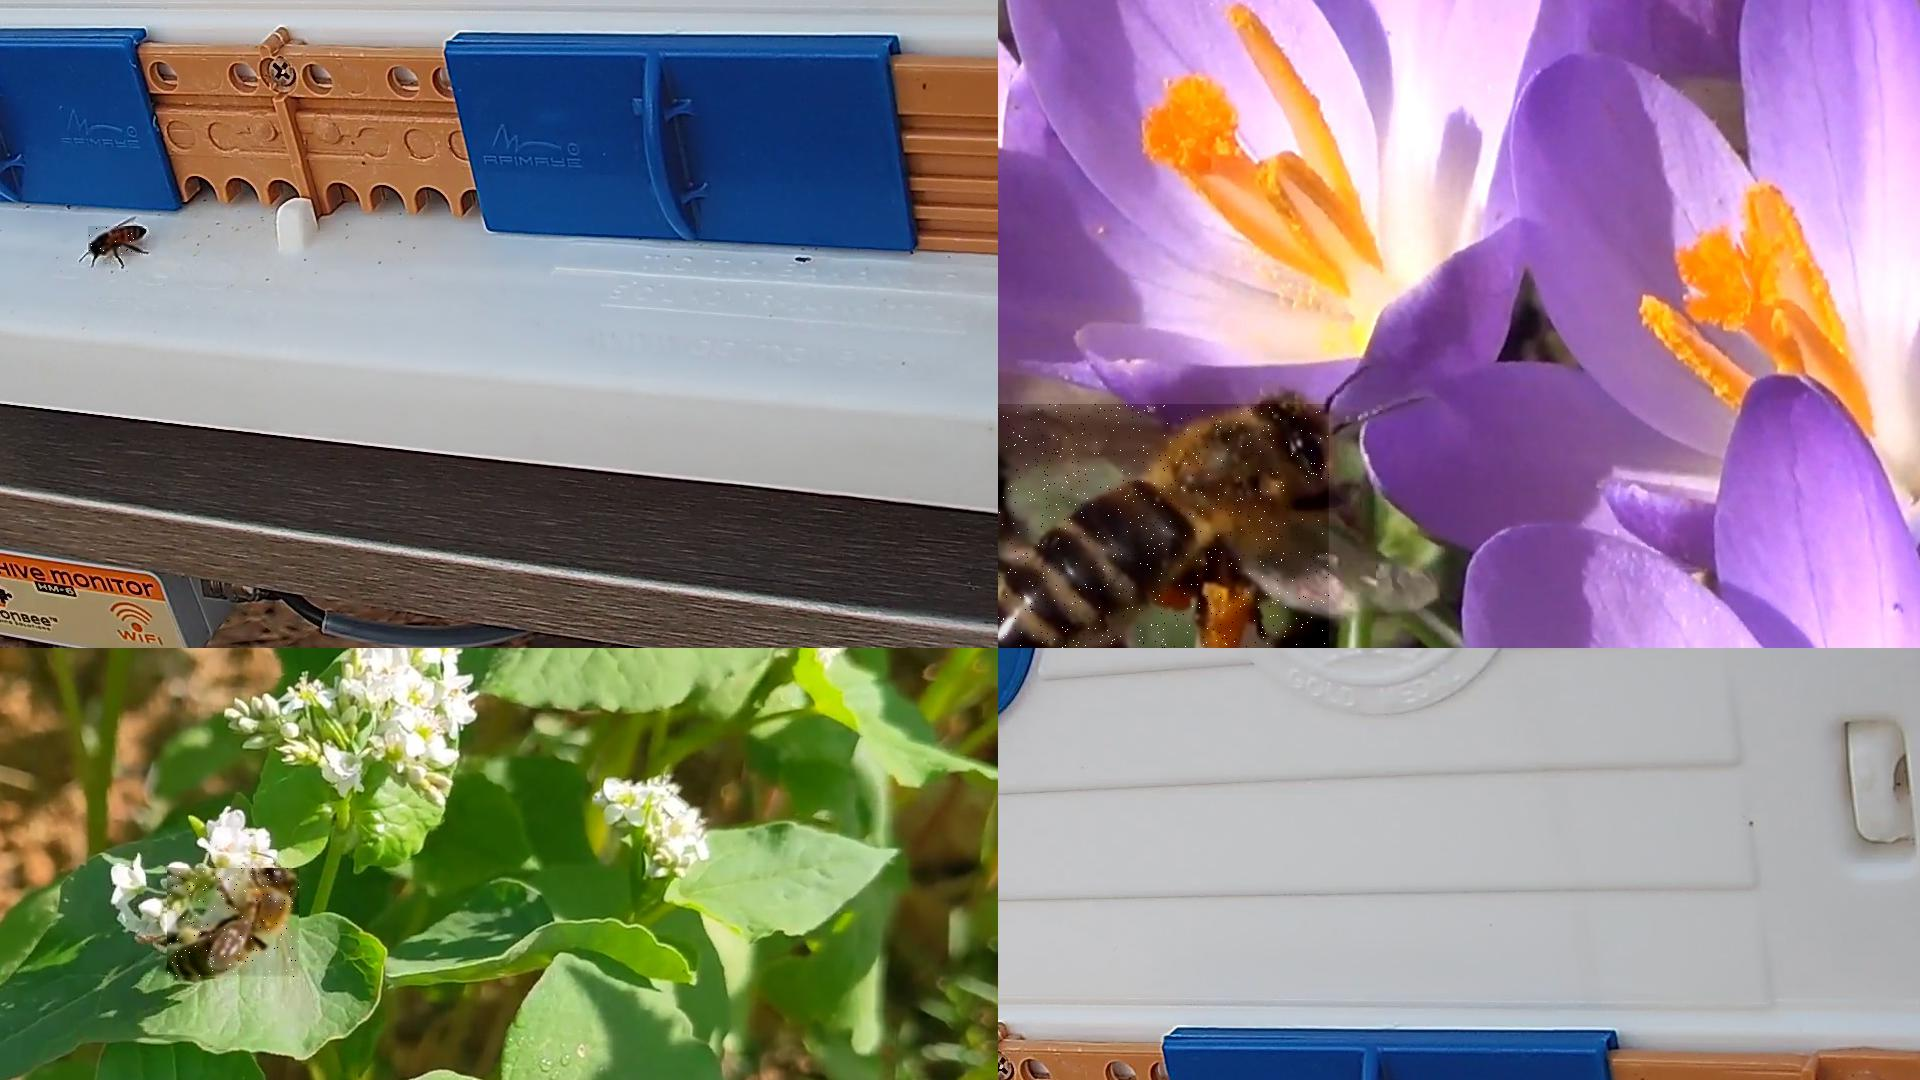bee: (167, 869, 301, 980), (88, 225, 144, 257)
pollenbee: (998, 404, 1331, 647)
